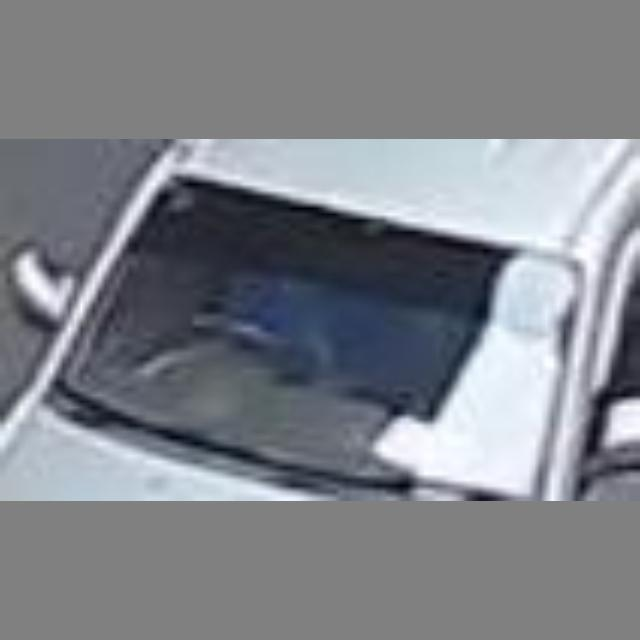tidak-pakai: (205, 230, 392, 387)
